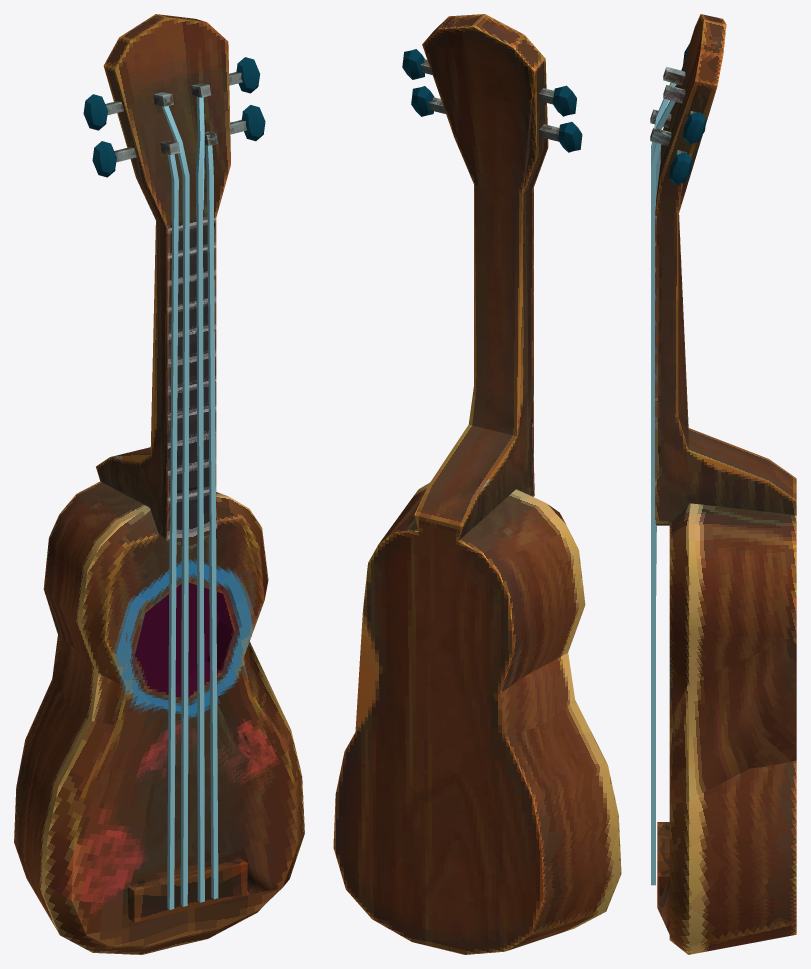
The model's file is item_ukulele.glb.
3 views of the same model, side by side, from view 1: azimuth 30°, elevation 25°; view 2: azimuth 150°, elevation 25°; view 3: azimuth 270°, elevation 25° (orthographic).
Parts seen in each view (by area): view 1: ukulele; view 2: ukulele; view 3: ukulele.
Part boxes in pixels (left/top/right/bottom): ukulele: left=14, top=14, right=304, bottom=954; ukulele: left=333, top=14, right=621, bottom=954; ukulele: left=650, top=14, right=796, bottom=954.
Bounding box in the file's own units: 0.2388 × 0.8095 × 0.1182.
Materials: 1 (1 with a texture image).
